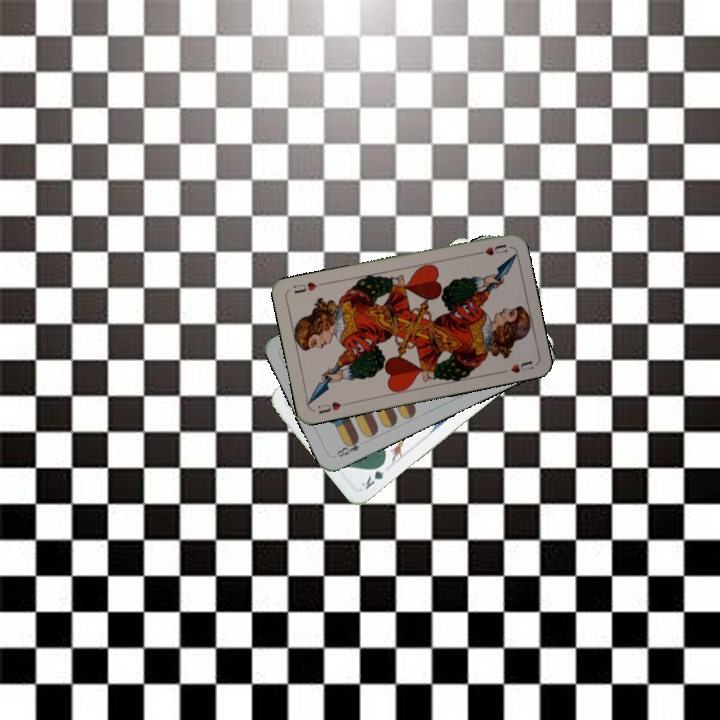E8: (331, 434, 363, 460)
GK: (357, 458, 388, 492)
HU: (314, 398, 351, 417), (471, 240, 510, 258)
